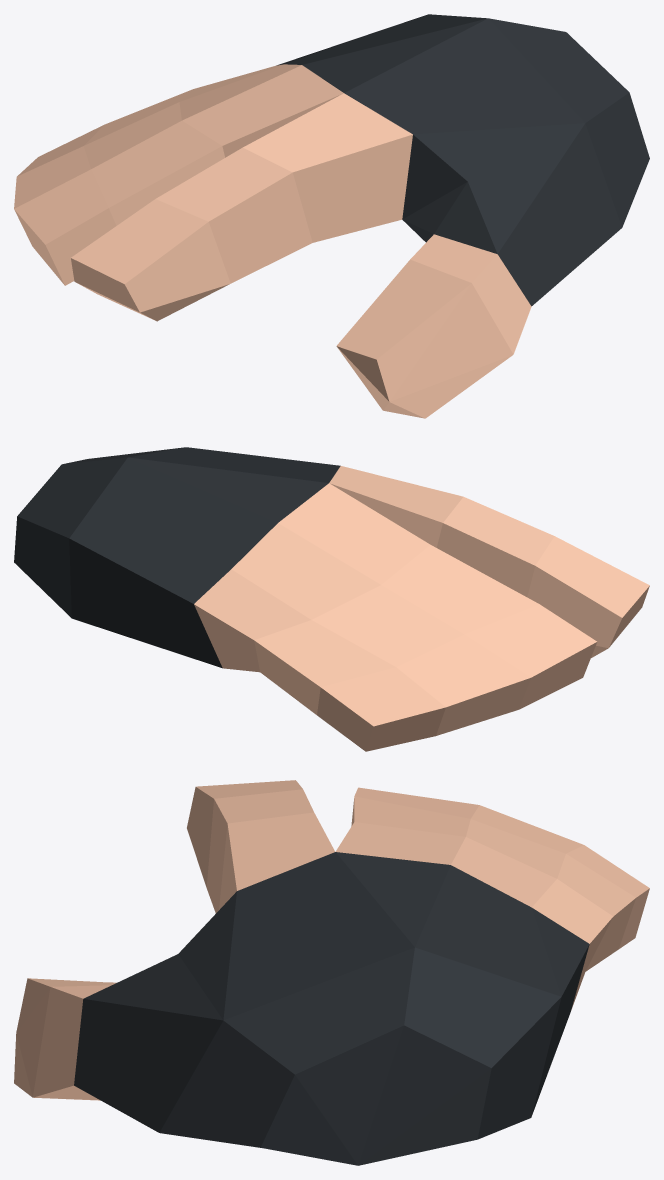
Rendered from Chr_HandRight_Female_07_Static.fbx.
The picture shows the model from 3 angles, top to bottom: view 1: azimuth 30°, elevation 25°; view 2: azimuth 150°, elevation 25°; view 3: azimuth 270°, elevation 25°; orthographic projection. The views are drawn at different scales.
Parts seen in each view (by area): view 1: Chr_HandRight_Female_07_Static; view 2: Chr_HandRight_Female_07_Static; view 3: Chr_HandRight_Female_07_Static.
Part boxes in pixels (x1,y1,x2,y2): Chr_HandRight_Female_07_Static: (14, 14, 649, 418); Chr_HandRight_Female_07_Static: (14, 447, 649, 751); Chr_HandRight_Female_07_Static: (14, 780, 649, 1165).
Size of the model in its own units: 0.2335 by 0.0952 by 0.188.
